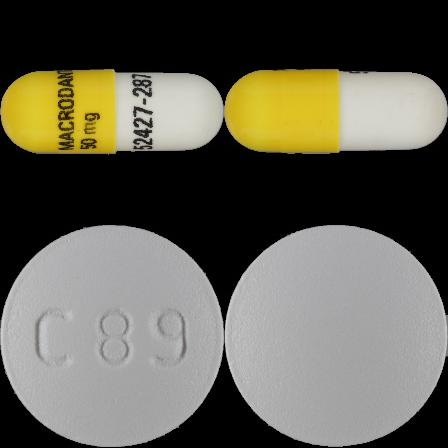43063-675: (0, 0, 224, 224)
